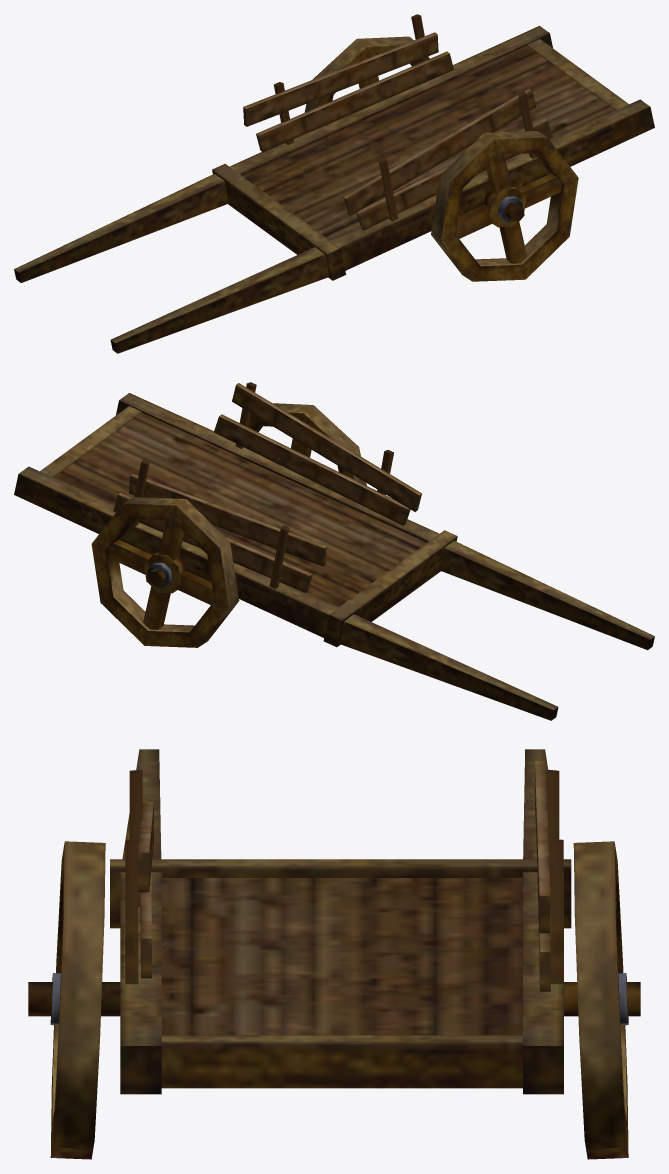
File: b_general_obj_21.glb
3 renders of one model, top to bottom at view 1: azimuth 30°, elevation 25°; view 2: azimuth 150°, elevation 25°; view 3: azimuth 270°, elevation 25°, orthographic. The views are drawn at different scales.
Visible parts, largest first — view 1: Sphere01; view 2: Sphere01; view 3: Sphere01.
Boxes of the visible parts, x1,y1,x2,y2 form: Sphere01: (14,14,654,353); Sphere01: (14,382,654,720); Sphere01: (28,749,640,1159).
Bounding box in the file's own units: 4.77 × 1.44 × 2.36.
Materials: 1 (1 with a texture image).
